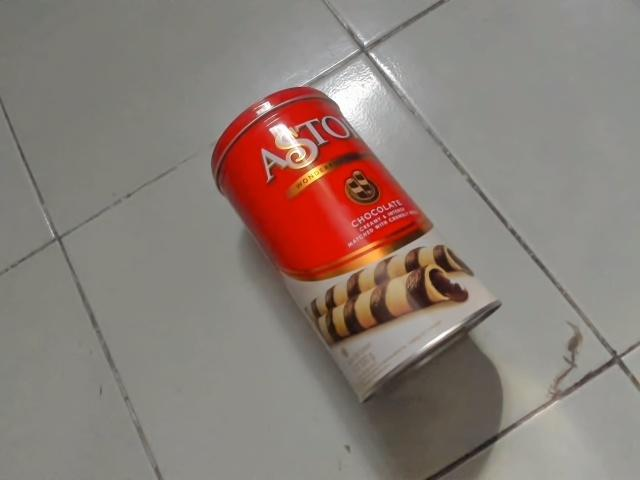anorganik: (204, 80, 509, 414)
